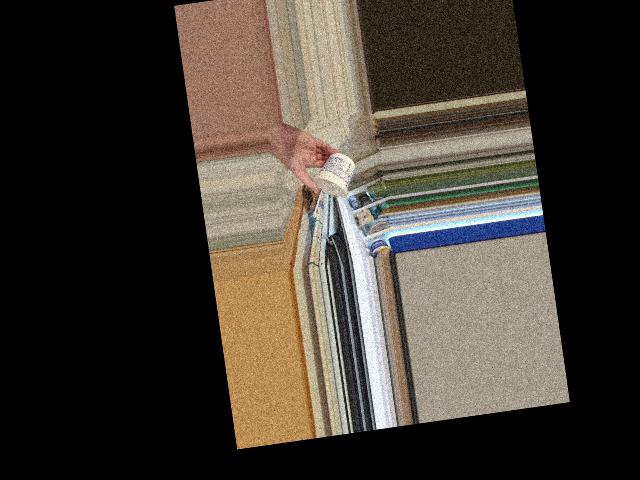cotage: (306, 152, 353, 196)
